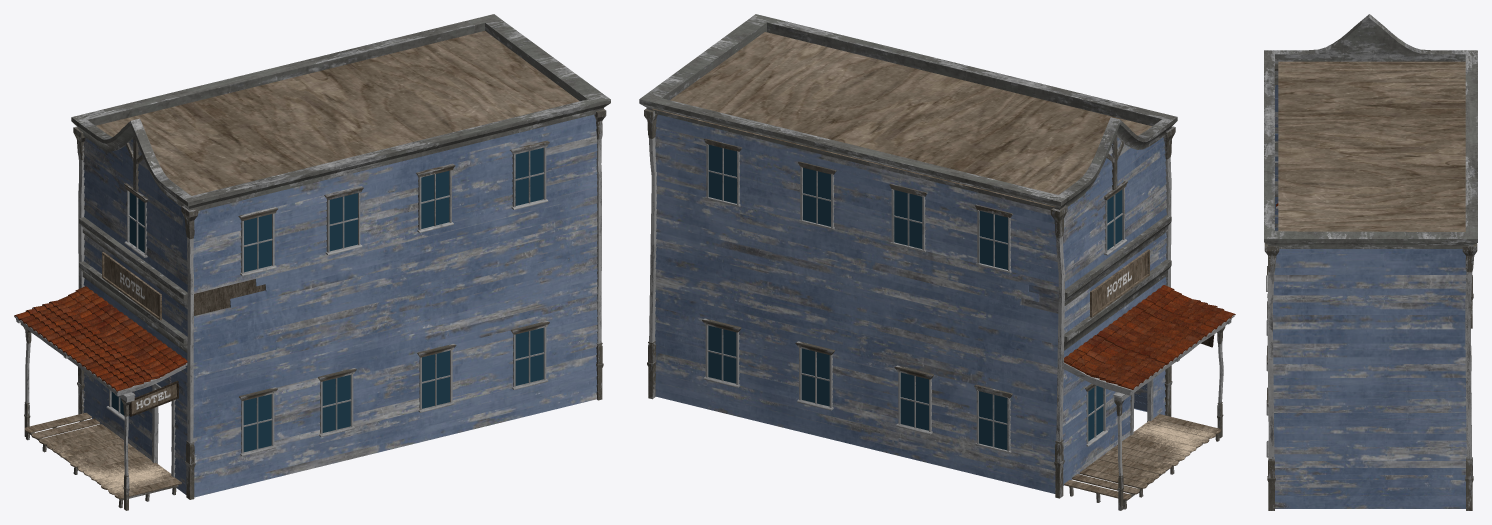
The model's file is Hotel 1.fbx.
3 renders of one model, left to right at view 1: azimuth 30°, elevation 25°; view 2: azimuth 150°, elevation 25°; view 3: azimuth 270°, elevation 25°, orthographic. The views are drawn at different scales.
Parts seen in each view (by area): view 1: polySurface2574; view 2: polySurface2574; view 3: polySurface2574.
Part boxes in pixels (bbox=[...]): polySurface2574: bbox=[14, 14, 610, 510]; polySurface2574: bbox=[639, 14, 1235, 510]; polySurface2574: bbox=[1264, 14, 1477, 510].
Bounding box in the file's own units: 1632 × 1091 × 677.
